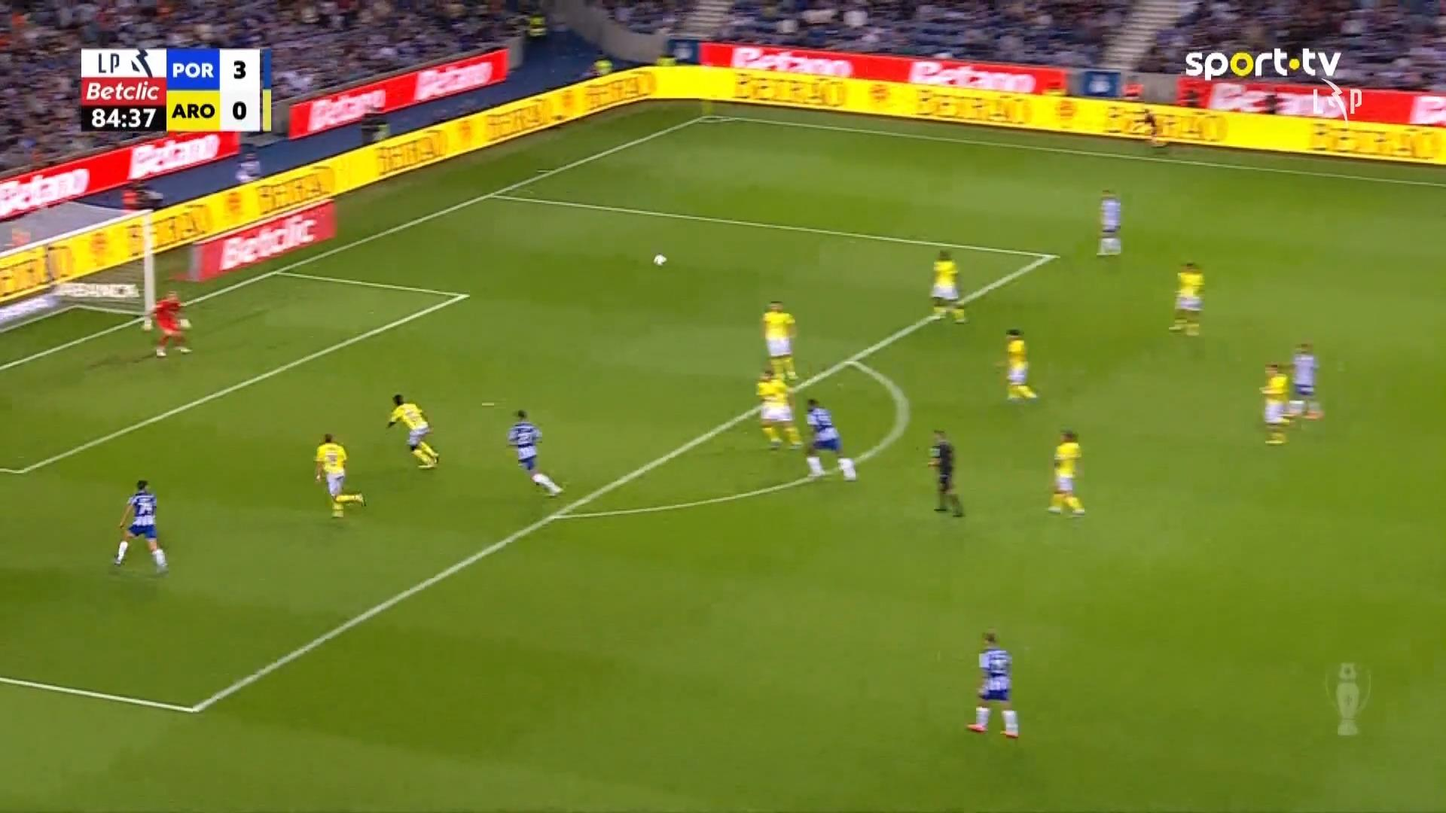ball: (652, 253, 667, 266)
goalkeeper: (141, 290, 193, 358)
player: (966, 629, 1019, 737), (112, 479, 168, 574), (505, 409, 564, 497), (313, 432, 366, 519), (803, 397, 857, 481), (386, 392, 440, 470), (754, 367, 803, 451), (1046, 428, 1085, 516), (996, 327, 1039, 401), (761, 299, 798, 381), (929, 248, 967, 323), (1258, 361, 1292, 444), (1168, 260, 1205, 335), (1289, 340, 1323, 419), (1096, 188, 1122, 256)
referee: (926, 428, 965, 517)
